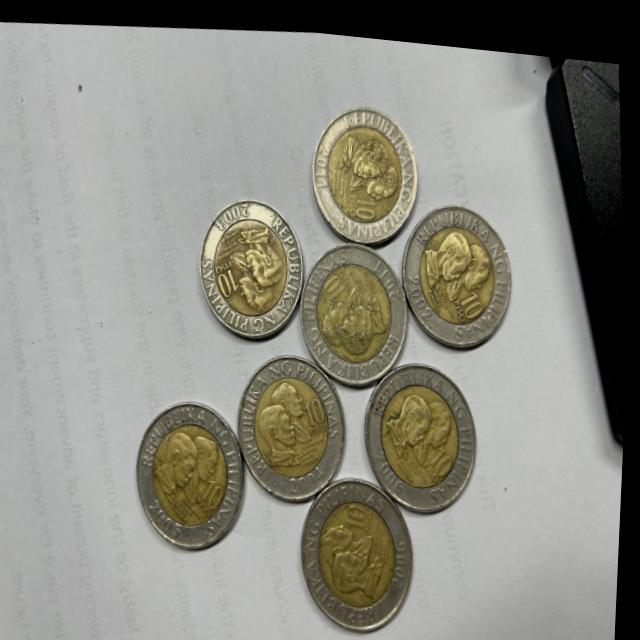10_Old_Front: (345, 485, 375, 525), (204, 467, 231, 507), (460, 276, 489, 312), (304, 387, 329, 426), (354, 182, 379, 216), (430, 436, 455, 470), (217, 263, 242, 295), (323, 264, 346, 297)
